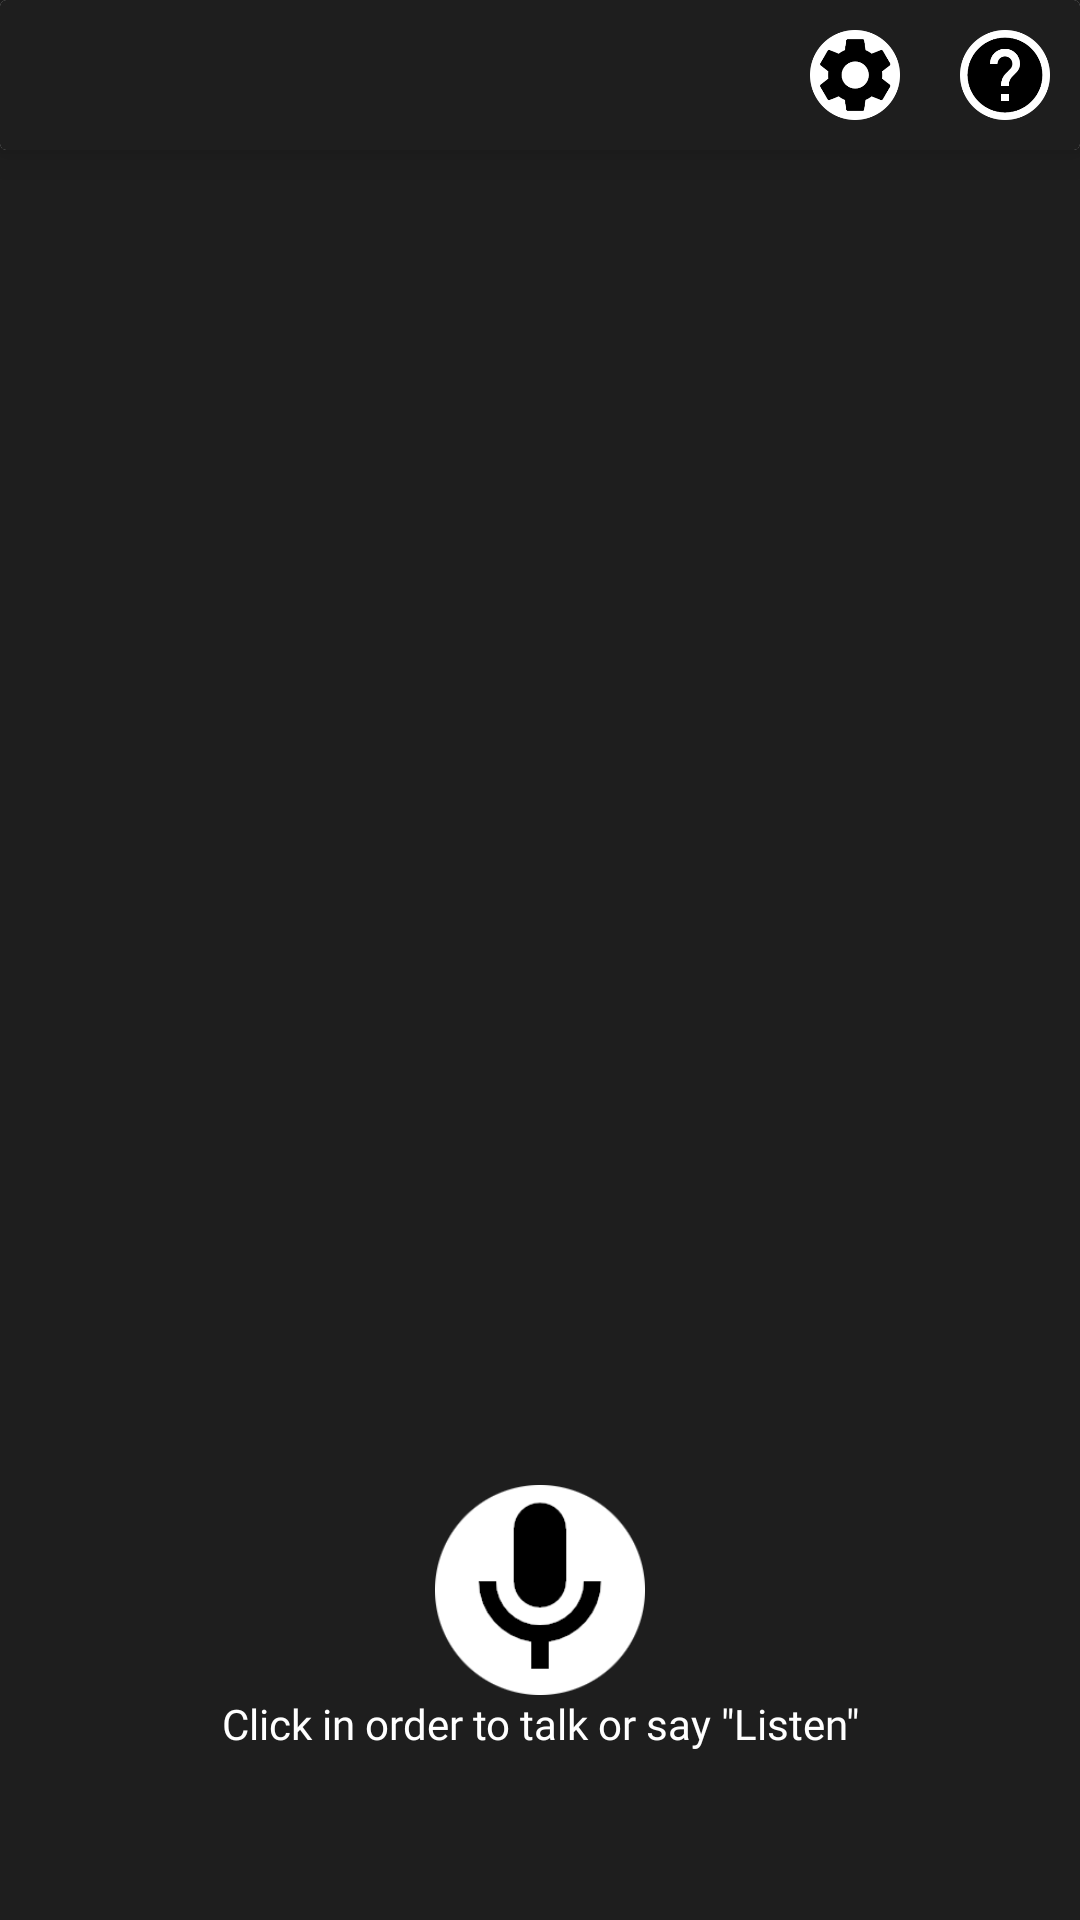

Icon bounding boxes for this 1080px×1920px phone screenshot, format (x1, y1, x2, y2):
question mark: (960, 30, 1050, 120)
